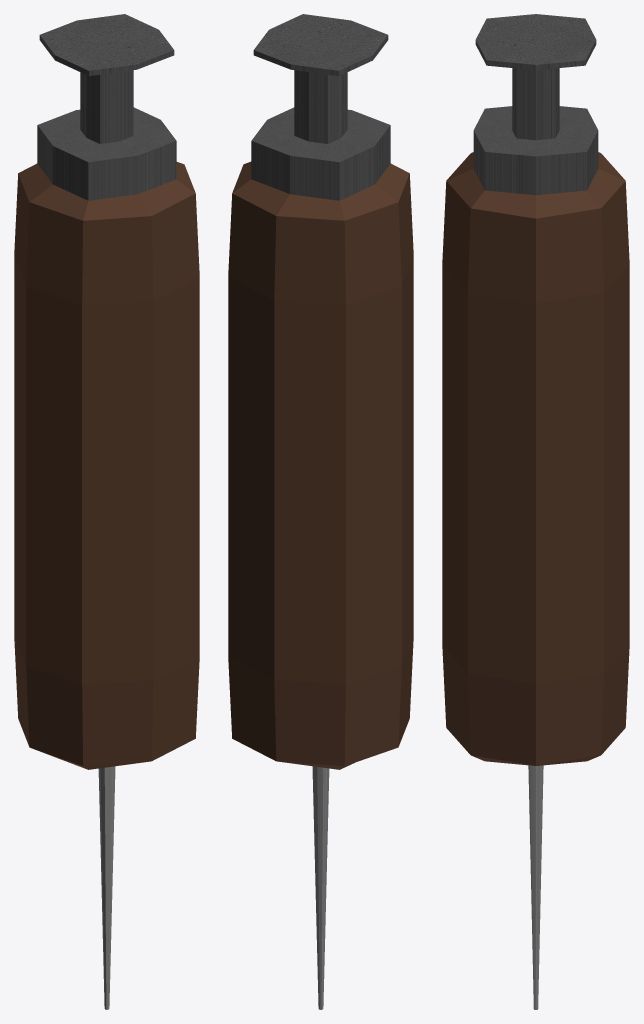
File: syrimge.fbx
3 renders of one model, left to right at view 1: azimuth 30°, elevation 25°; view 2: azimuth 150°, elevation 25°; view 3: azimuth 270°, elevation 25°, orthographic.
Visible parts, largest first — view 1: Cube, Cube.002, Cube.001; view 2: Cube, Cube.002, Cube.001; view 3: Cube, Cube.002, Cube.001.
Part boxes in pixels (left/top/right/bottom): Cube: left=14, top=162, right=199, bottom=769; Cube.002: left=37, top=14, right=176, bottom=200; Cube.001: left=98, top=766, right=115, bottom=1009; Cube: left=228, top=161, right=413, bottom=769; Cube.002: left=251, top=14, right=390, bottom=200; Cube.001: left=312, top=766, right=329, bottom=1009; Cube: left=442, top=152, right=629, bottom=765; Cube.002: left=473, top=14, right=598, bottom=195; Cube.001: left=528, top=765, right=543, bottom=1009.
Size of the model in its own units: 183 by 1047 by 183.
3 materials, 2 textured.
